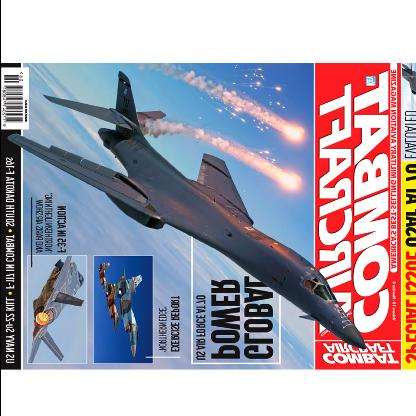AV8B: (6, 72, 366, 350)
F14: (116, 268, 142, 362), (106, 279, 120, 335), (98, 260, 110, 296)
F18: (401, 62, 415, 110)
F22: (27, 256, 84, 364)
